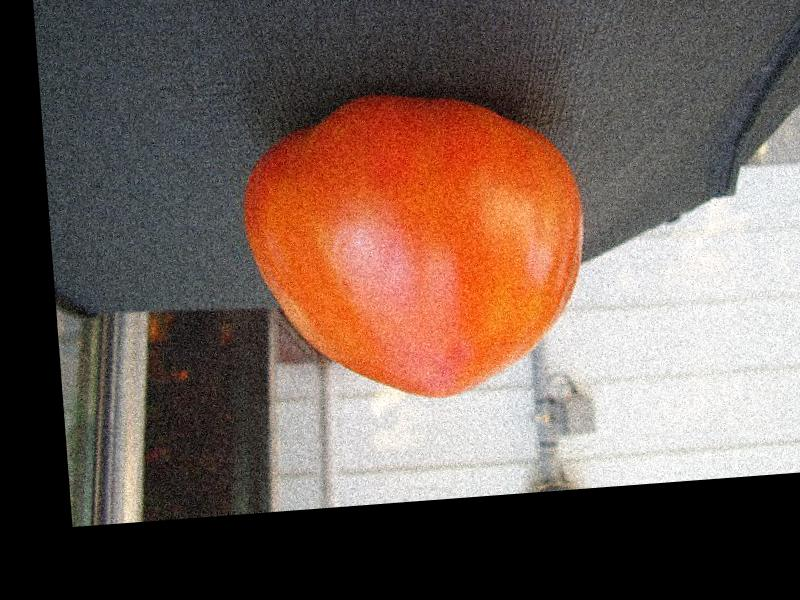Tomato: (235, 83, 595, 413)
